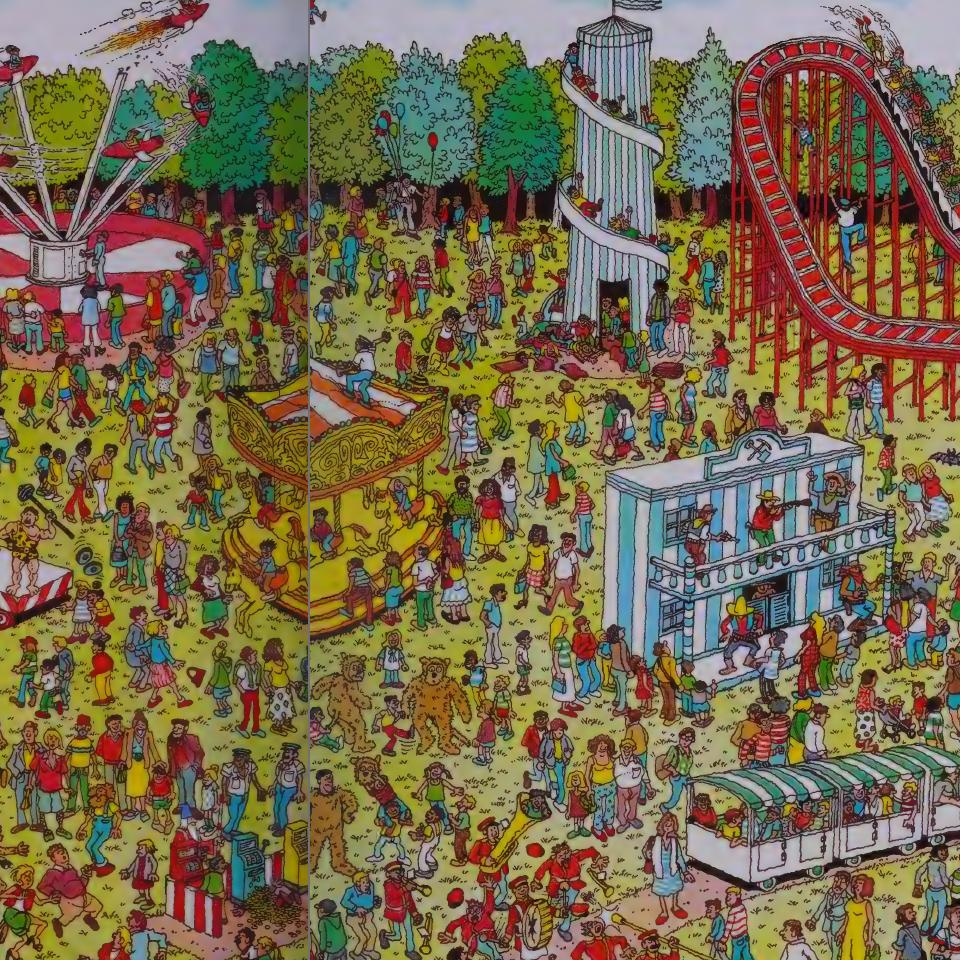waldo: (740, 710, 774, 769)
